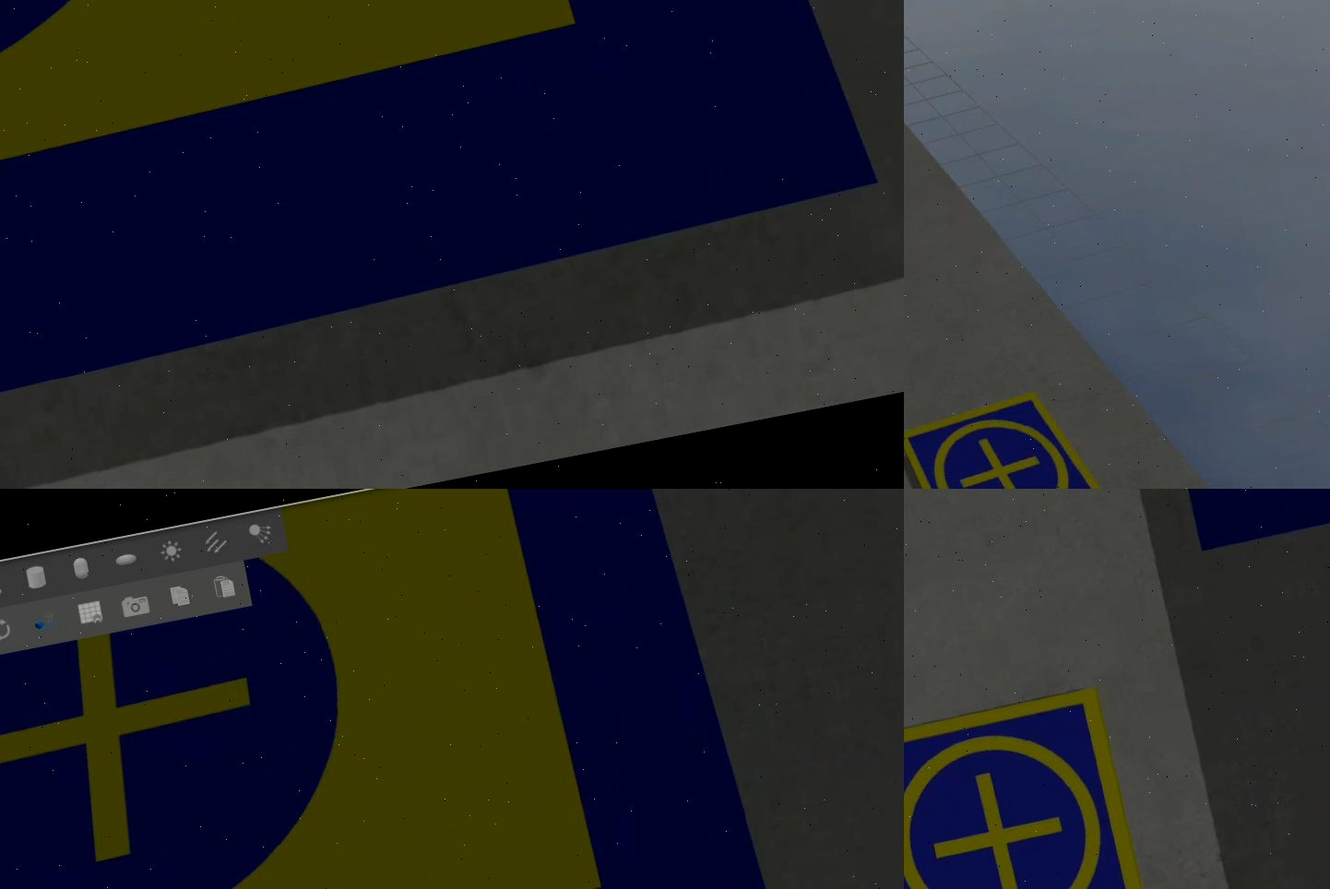large_base: (1, 1, 889, 447), (1, 490, 807, 889)
small_base: (904, 683, 1155, 889), (904, 384, 1122, 490)
